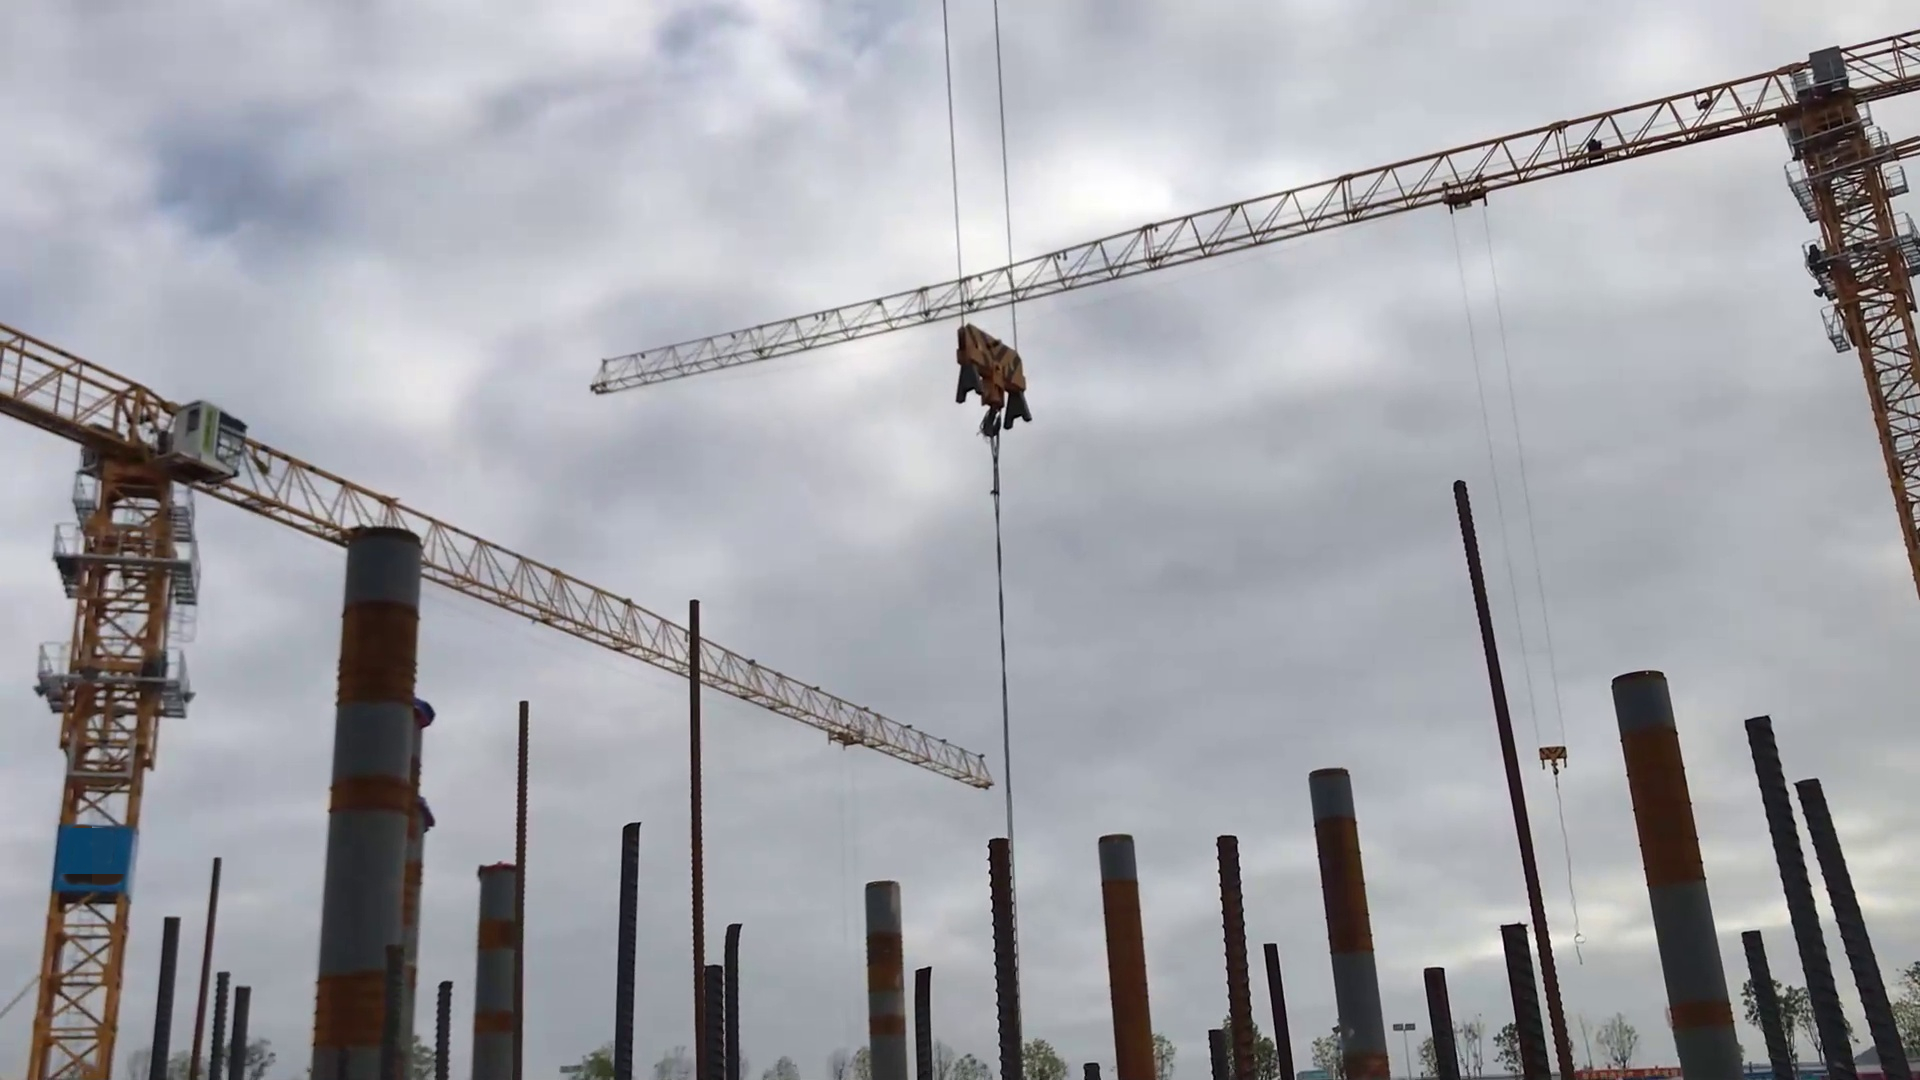hook: (949, 316, 1038, 450)
